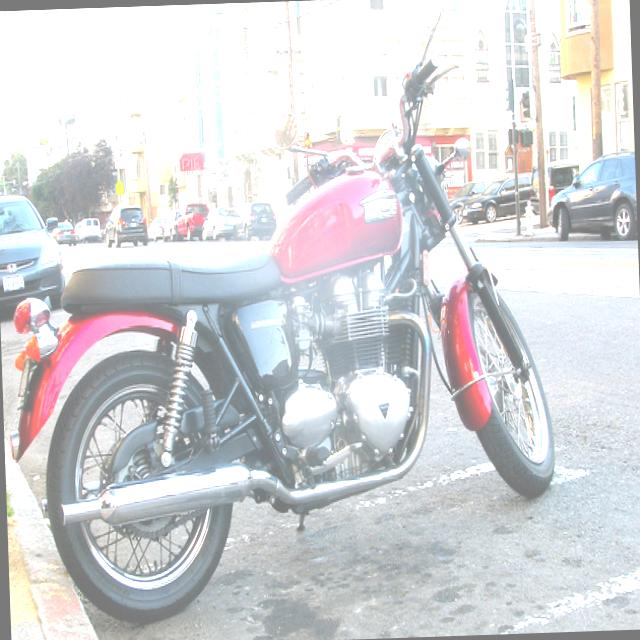Vehicle: (0, 0, 571, 630), (544, 149, 638, 243), (0, 189, 65, 317), (462, 173, 534, 222), (528, 159, 582, 217), (448, 177, 496, 224), (104, 204, 147, 246), (233, 200, 276, 240), (173, 202, 210, 240), (201, 207, 239, 241), (159, 208, 182, 242), (50, 220, 76, 247), (76, 217, 102, 243), (145, 216, 166, 243)
